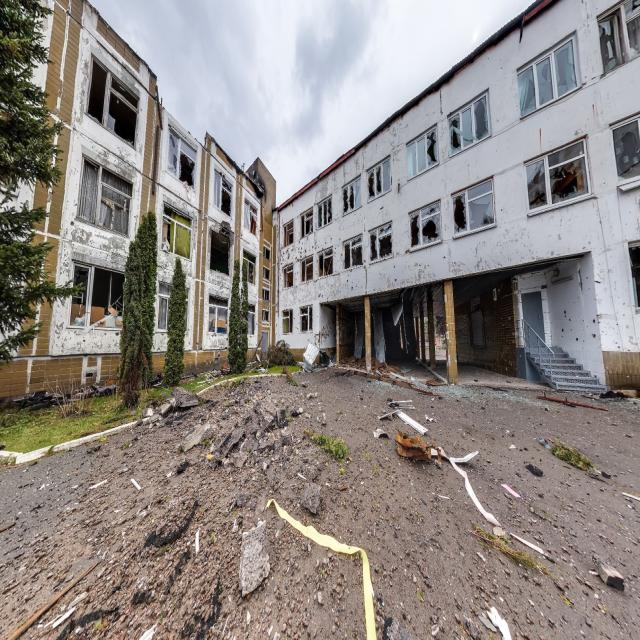broken_window: (524, 135, 590, 216), (516, 34, 578, 120), (85, 52, 139, 150), (447, 90, 490, 158), (452, 176, 496, 239), (406, 123, 439, 181), (161, 203, 193, 261), (408, 200, 442, 251), (366, 156, 392, 203), (341, 174, 361, 216)
building: (272, 0, 640, 394), (0, 0, 275, 402)
